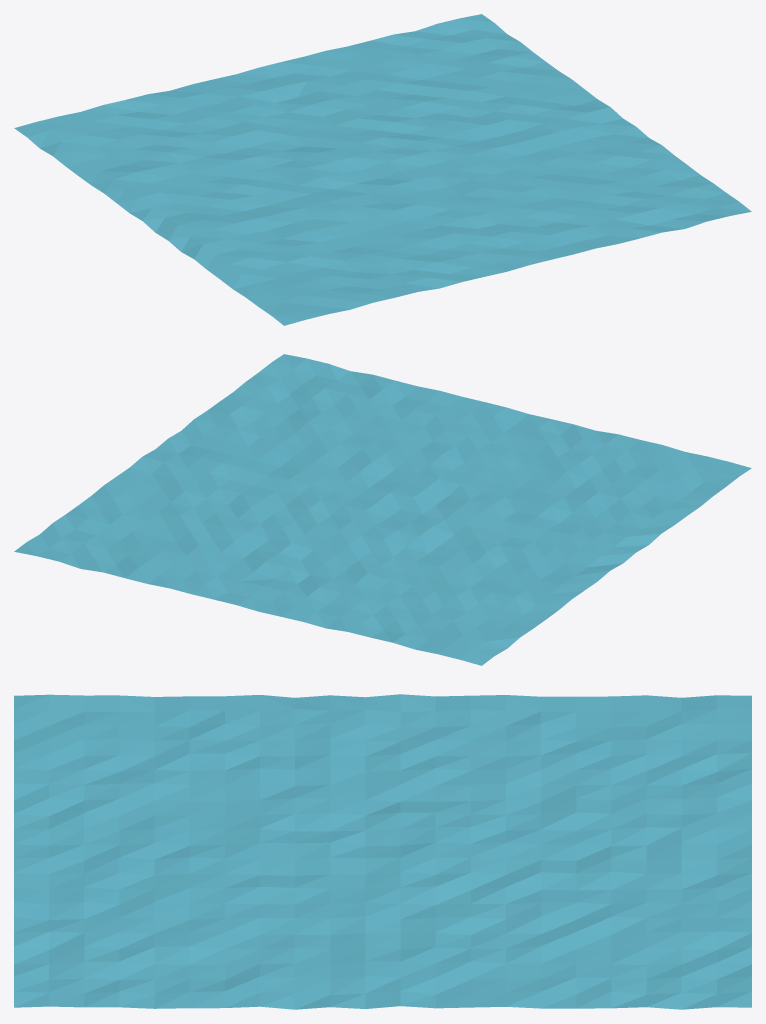
Rendered from terrains-terrain-sea.glb.
3 views of the same model, one above another, from view 1: azimuth 30°, elevation 25°; view 2: azimuth 150°, elevation 25°; view 3: azimuth 270°, elevation 25° (orthographic). The views are drawn at different scales.
Visible parts, largest first — view 1: terrain_sea_01; view 2: terrain_sea_01; view 3: terrain_sea_01.
Part boxes in pixels (x1=…): terrain_sea_01: x1=14, y1=14, x2=751, y2=325; terrain_sea_01: x1=14, y1=354, x2=751, y2=665; terrain_sea_01: x1=14, y1=694, x2=751, y2=1009.
Bounding box in the file's own units: 20 × 0.1376 × 20.
